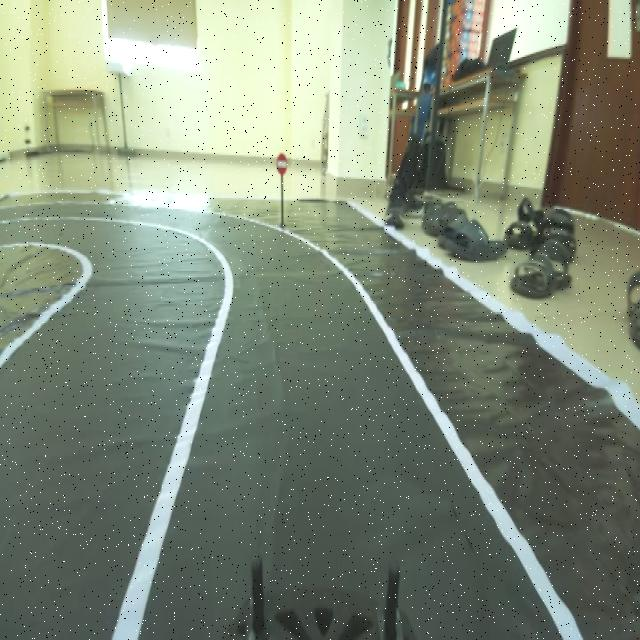no_entry: (272, 148, 294, 178)
